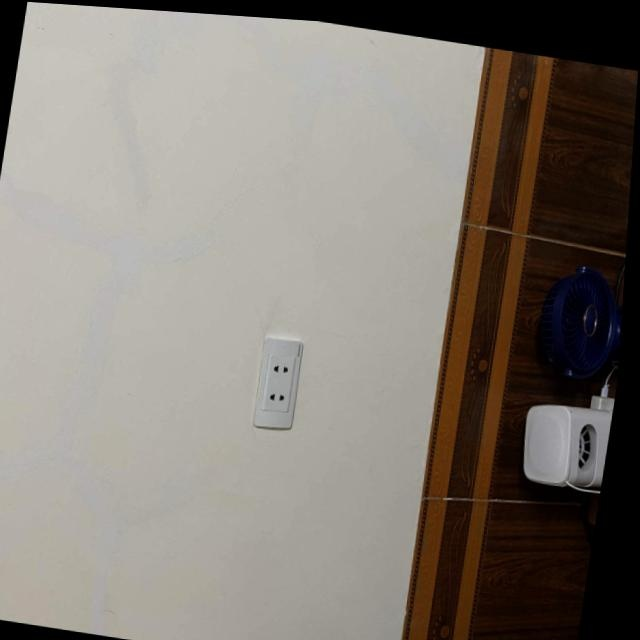outlet: (249, 334, 305, 432)
